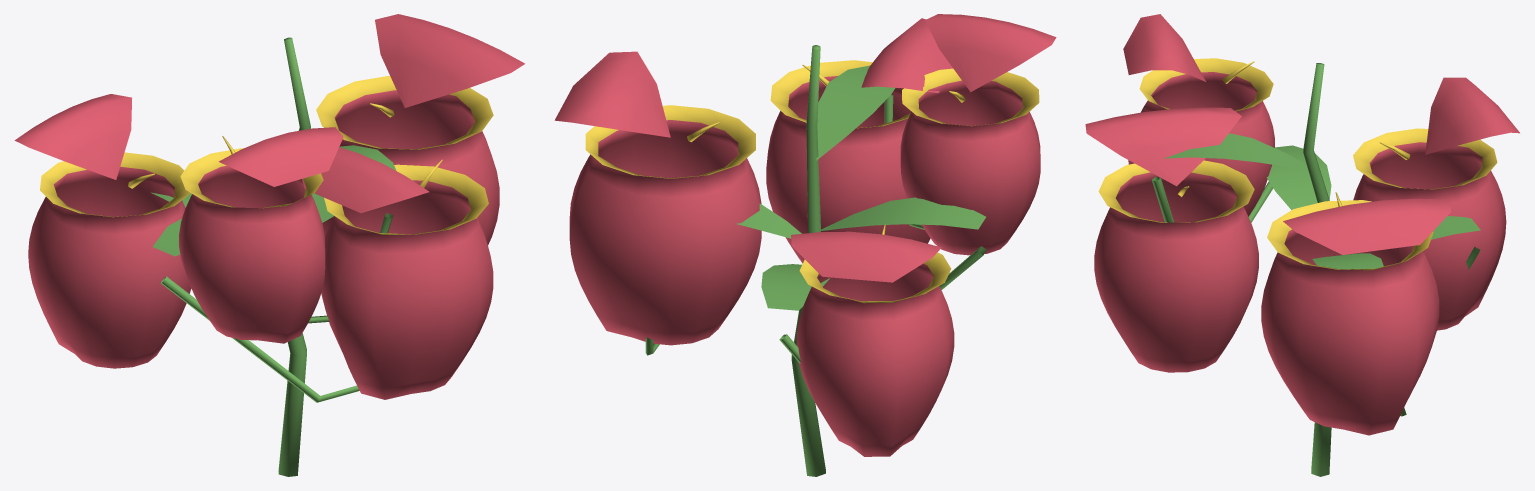
Rendered from carnivorous_pitcher_plant.glb.
3 renders of one model, left to right at view 1: azimuth 30°, elevation 25°; view 2: azimuth 150°, elevation 25°; view 3: azimuth 270°, elevation 25°, orthographic. The views are drawn at different scales.
Visible parts, largest first — view 1: Flora_Pitcher_Plant; view 2: Flora_Pitcher_Plant; view 3: Flora_Pitcher_Plant.
Boxes of the visible parts, x1,y1,x2,y2 form: Flora_Pitcher_Plant: (14,14,524,476); Flora_Pitcher_Plant: (554,14,1056,476); Flora_Pitcher_Plant: (1085,14,1519,476).
Bounding box in the file's own units: 1.56 × 1.51 × 1.45.
